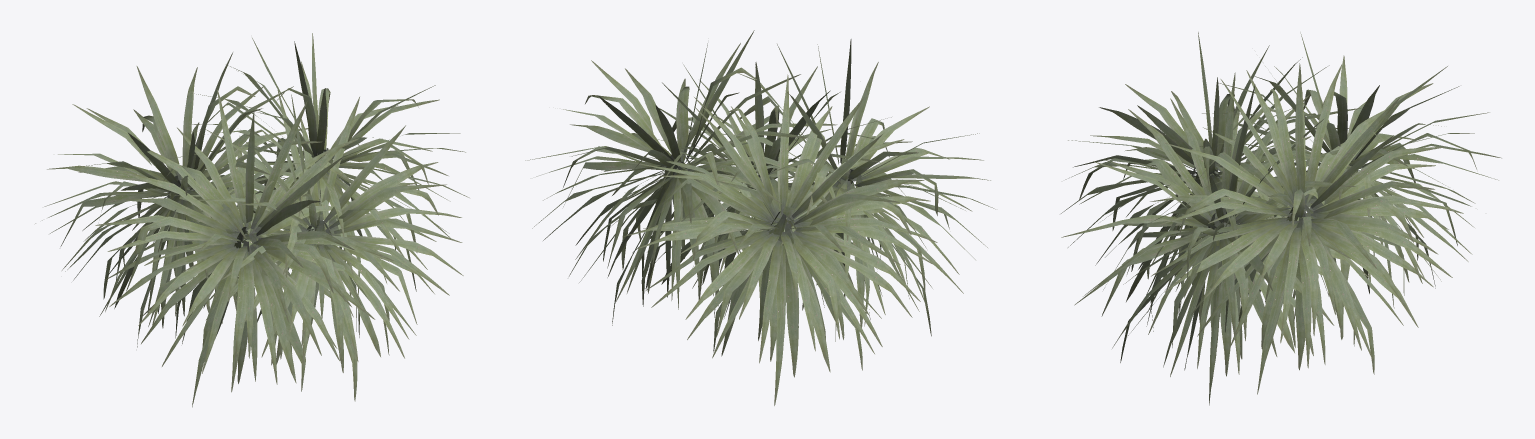
File: MESH_AF08_DracaenaDraco_Y_LOD2.fbx
3 renders of one model, left to right at view 1: azimuth 30°, elevation 25°; view 2: azimuth 150°, elevation 25°; view 3: azimuth 270°, elevation 25°, orthographic. The views are drawn at different scales.
Parts seen in each view (by area): view 1: MI_LOD2_001; view 2: MI_LOD2_001; view 3: MI_LOD2_001.
Boxes of the visible parts, bbox=[...] form: MI_LOD2_001: bbox=[35, 33, 469, 407]; MI_LOD2_001: bbox=[525, 30, 995, 405]; MI_LOD2_001: bbox=[1061, 32, 1501, 405].
Size of what is drawn, in the model's own units: 199 by 155 by 194.
